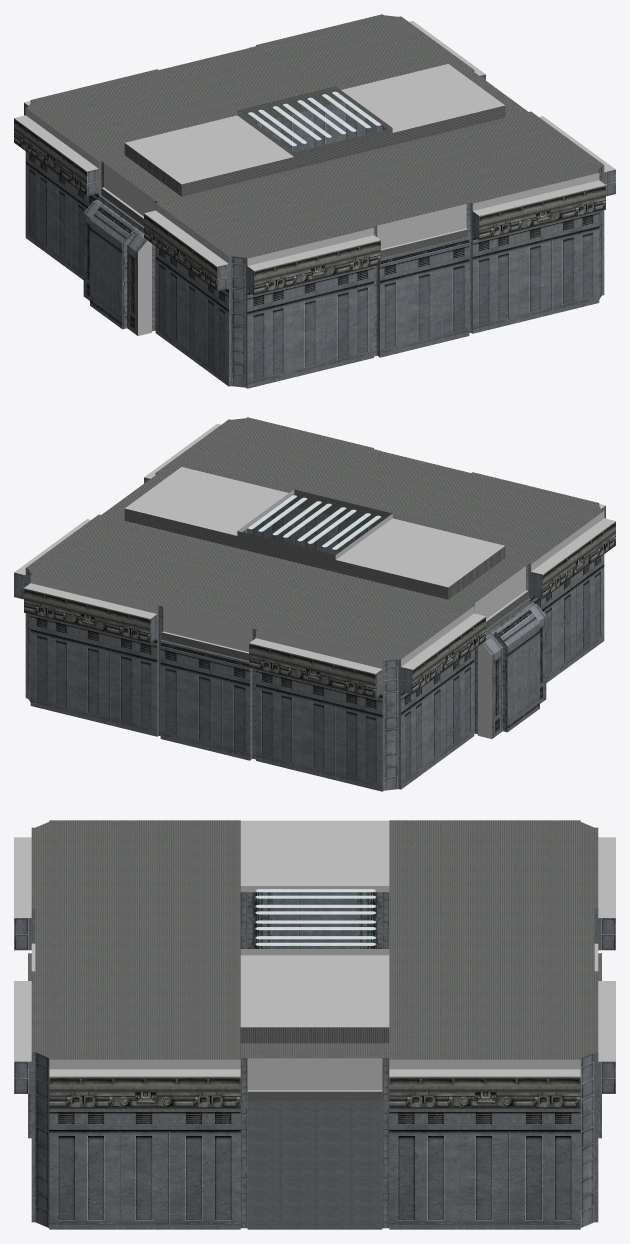
Rendered from poi_all_impl_bunker_small_outpost_s02_r9_office_mesh.fbx.
3 renders of one model, top to bottom at view 1: azimuth 30°, elevation 25°; view 2: azimuth 150°, elevation 25°; view 3: azimuth 270°, elevation 25°, orthographic. The views are drawn at different scales.
Parts seen in each view (by area): view 1: mesh_node; view 2: mesh_node; view 3: mesh_node.
Part boxes in pixels (box(x1,y1,x2,y2)): mesh_node: box(14, 14, 615, 388); mesh_node: box(14, 417, 615, 791); mesh_node: box(14, 820, 615, 1229).
Size of the model in its own units: 17.4 by 6 by 17.
